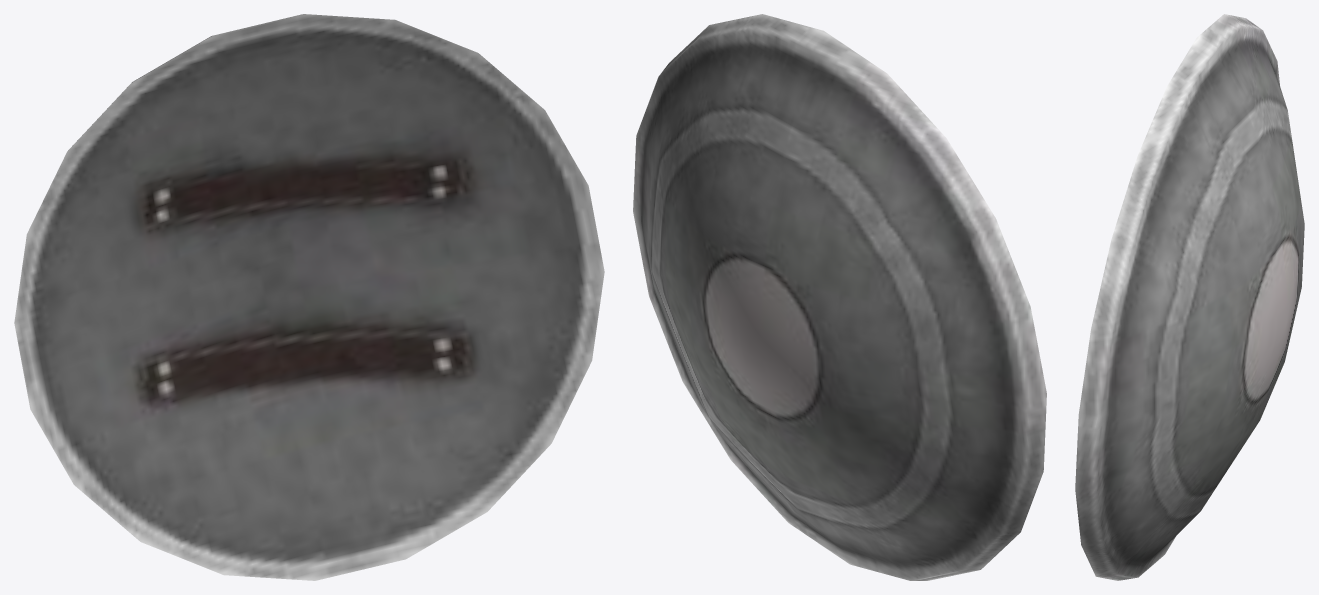
The model's file is shield-coppershields.glb.
3 views of the same model, side by side, from view 1: azimuth 30°, elevation 25°; view 2: azimuth 150°, elevation 25°; view 3: azimuth 270°, elevation 25° (orthographic). The views are drawn at different scales.
Size of the model in its own units: 0.6027 by 0.6325 by 0.2497.
Materials: 1 (1 with a texture image).
